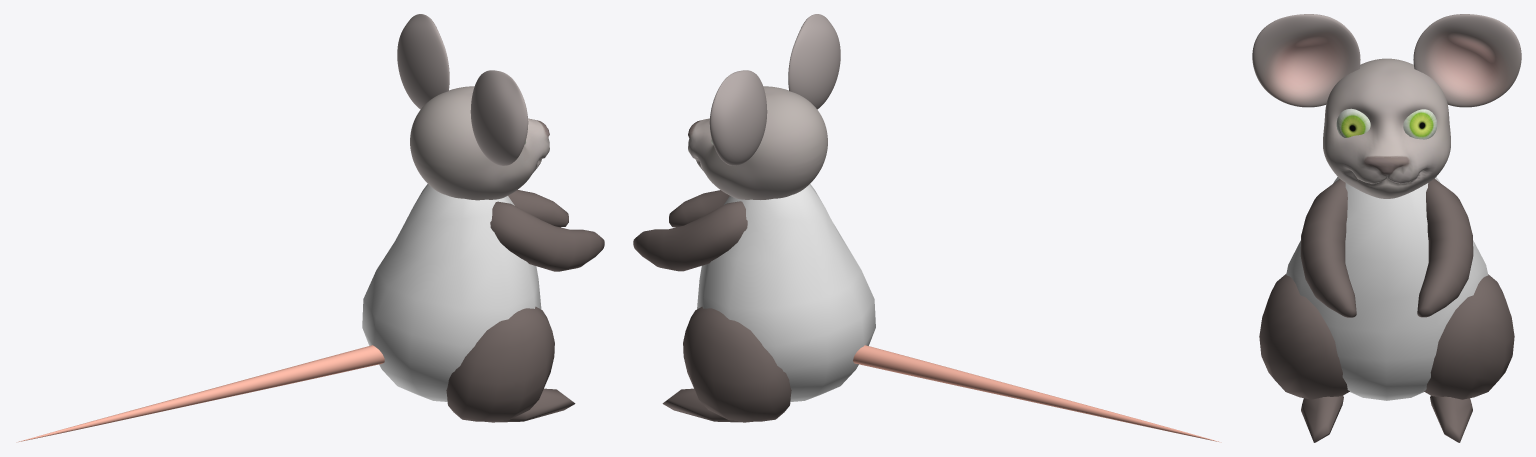
Rendered from scavengerrat.fbx.
The picture shows the model from 3 angles, left to right: view 1: azimuth 30°, elevation 25°; view 2: azimuth 150°, elevation 25°; view 3: azimuth 270°, elevation 25°; orthographic projection. The views are drawn at different scales.
Visible parts, largest first — view 1: body, head; view 2: body, head; view 3: body, head, eyes.
Part boxes in pixels (box(x1,y1,x2,y2)): body: box(16, 184, 604, 442); head: box(397, 14, 549, 200); body: box(633, 184, 1221, 442); head: box(688, 14, 840, 199); body: box(1259, 177, 1514, 442); head: box(1252, 14, 1521, 198); eyes: box(1336, 108, 1437, 139).
Bounding box in the file's own units: 1351 × 806 × 500.
6 materials, 3 textured.
